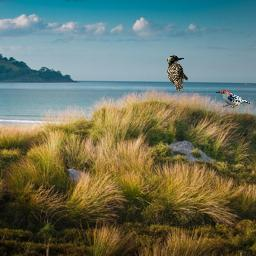Woodpecker: (167, 55, 188, 93), (216, 90, 250, 108)
